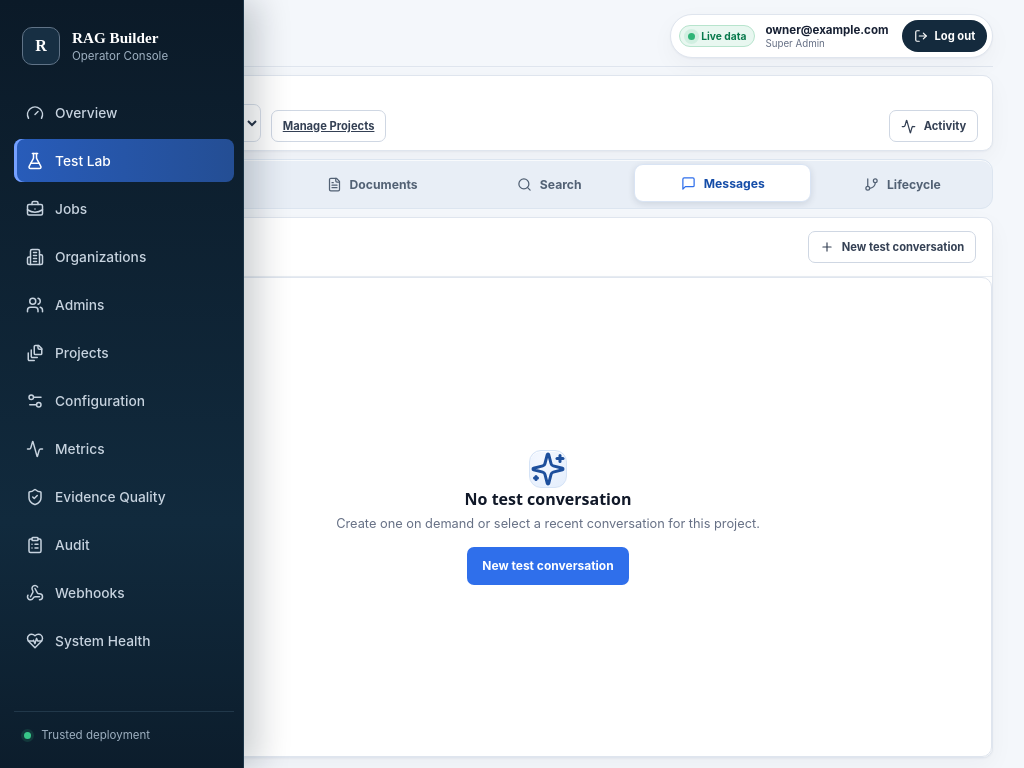
it: renders grounded citations instead of inferring grounding from answer text
Click the button "New test conversation" below "No test conversation" at {"x": 548, "y": 566}, box [467,546,629,584]
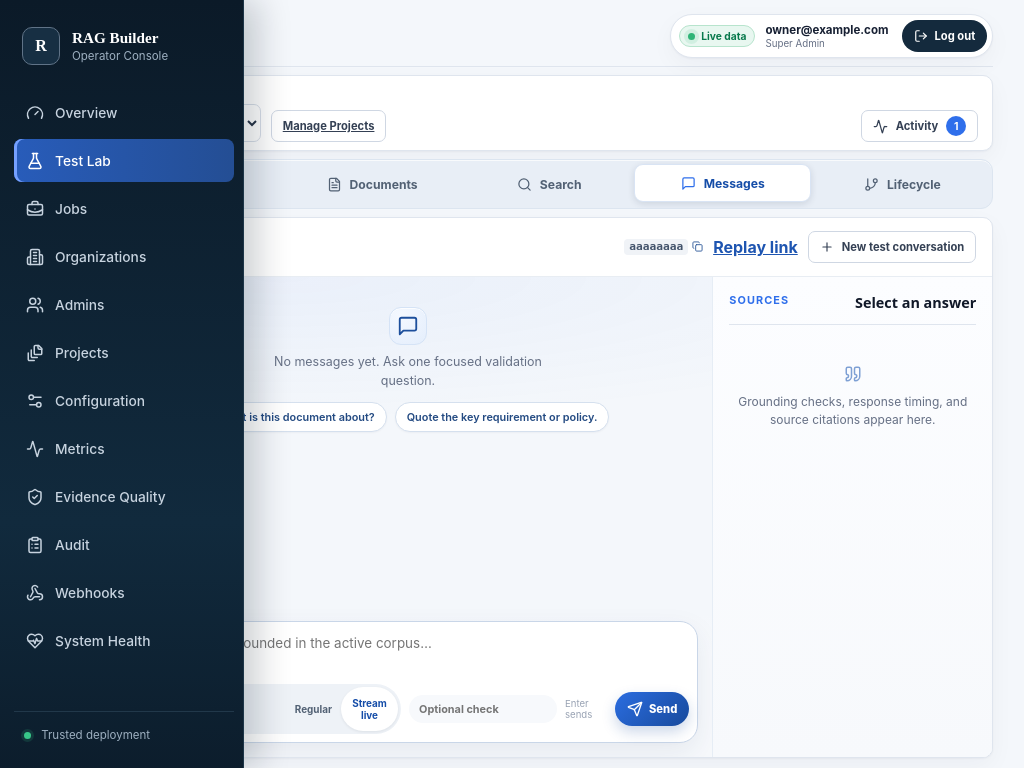
Type "What is the policy?" into the text box named "Message" at {"x": 408, "y": 650}, box [119,622,697,678]
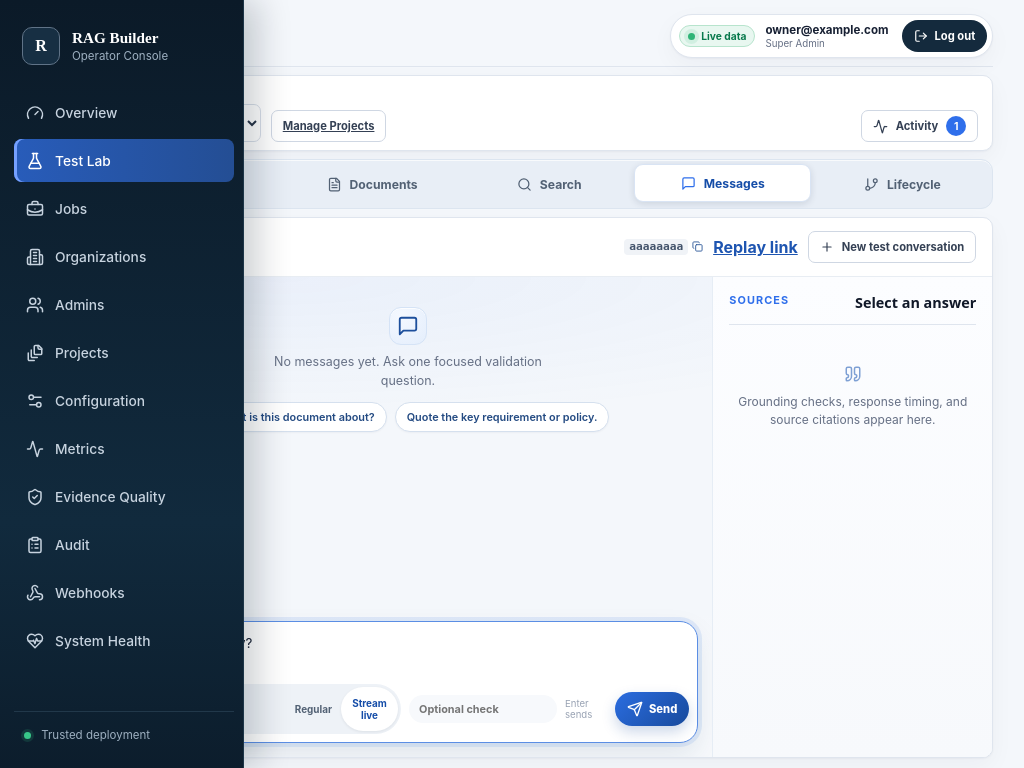
Click the button "Regular" at {"x": 313, "y": 709}, box [286,687,341,731]
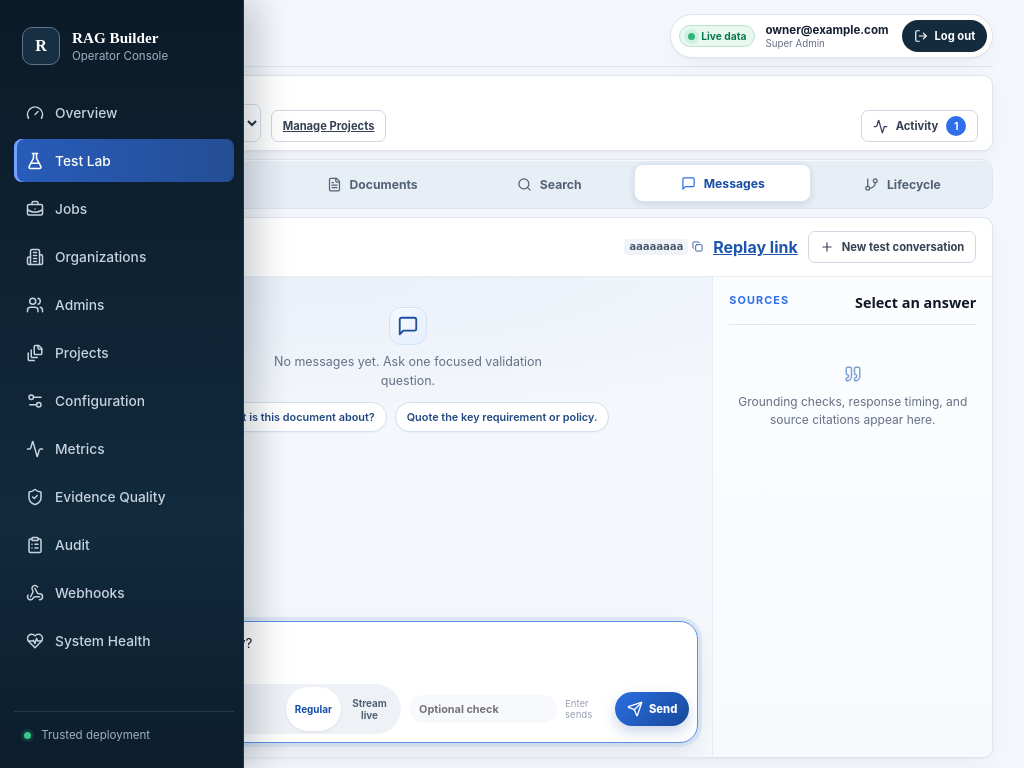
Click the button with aria-label "Send message" at {"x": 652, "y": 709}, box [615,692,689,726]
(page scrolled)
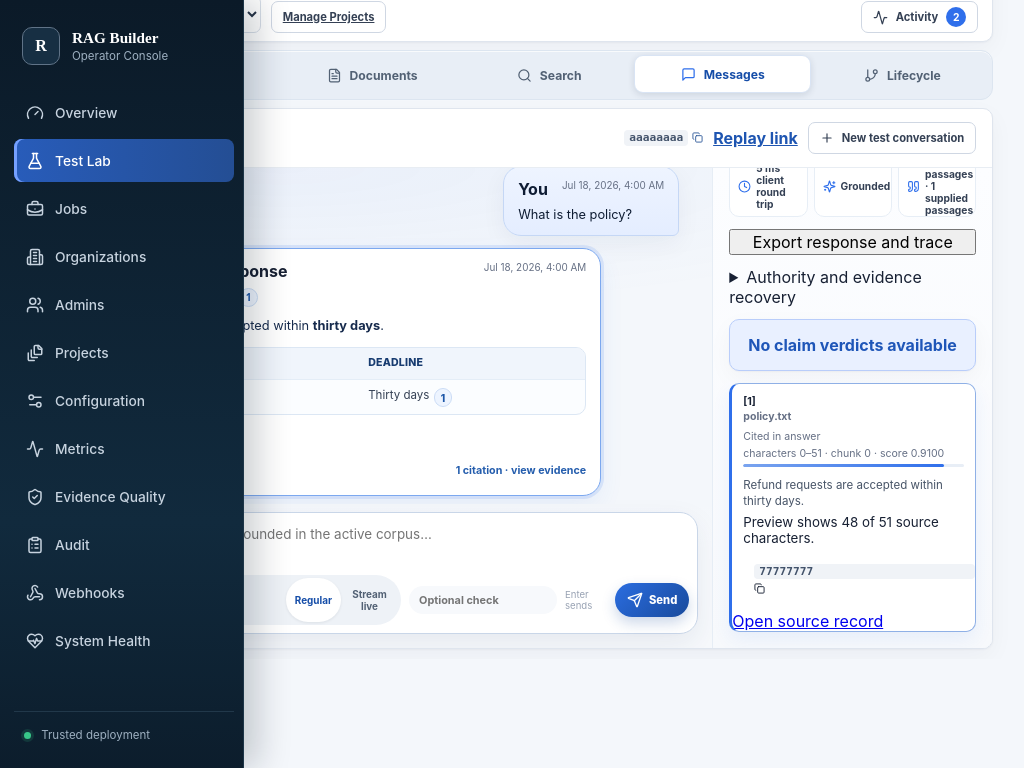
Now the list named "1 citations" shows "[1] policy.txt", box [729,383,976,632]
Now the heading "Refund policy 1" is shown, box [137,288,258,307]
Now the number of buttons named "Open citation 1: policy.txt" is 2, box [240,288,258,307]; [434,388,452,407]
